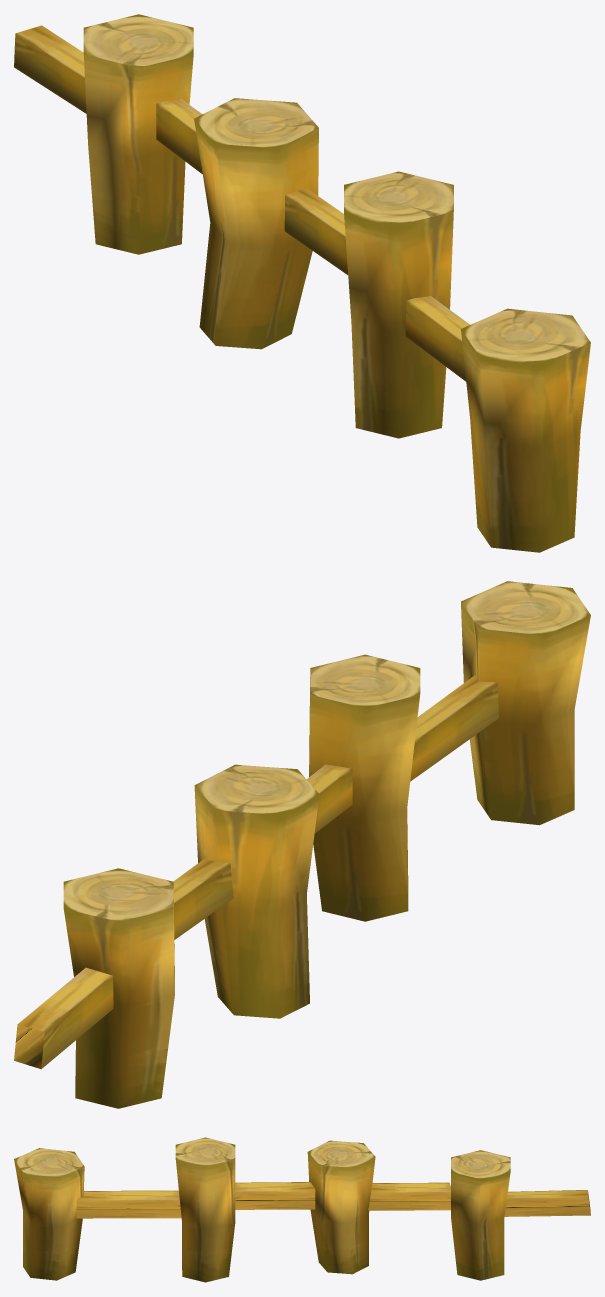
The model's file is zhalan_L2.fbx.
3 renders of one model, top to bottom at view 1: azimuth 30°, elevation 25°; view 2: azimuth 150°, elevation 25°; view 3: azimuth 270°, elevation 25°, orthographic. The views are drawn at different scales.
Parts seen in each view (by area): view 1: polySurface29; view 2: polySurface29; view 3: polySurface29.
Boxes of the visible parts, x1,y1,x2,y2 form: polySurface29: [14, 14, 590, 552]; polySurface29: [14, 581, 590, 1108]; polySurface29: [14, 1137, 590, 1282].
Bounding box in the file's own units: 2.87 × 4.84 × 20.72.
